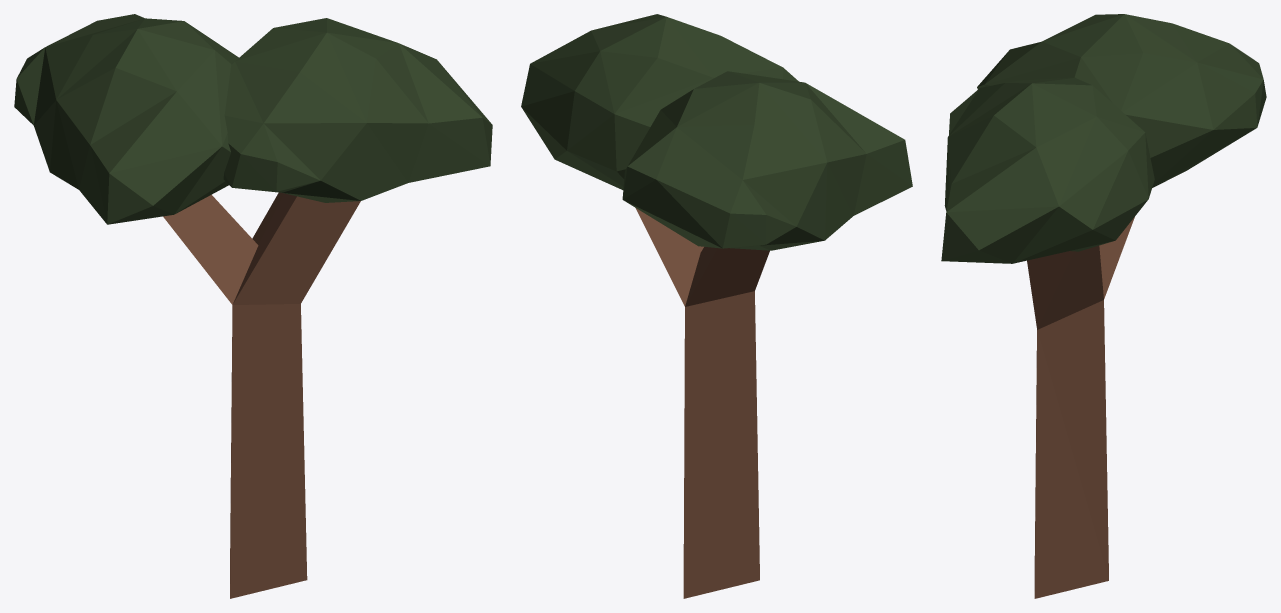
Rendered from CityPlant2.fbx.
The picture shows the model from 3 angles, left to right: view 1: azimuth 30°, elevation 25°; view 2: azimuth 150°, elevation 25°; view 3: azimuth 270°, elevation 25°; orthographic projection. The views are drawn at different scales.
Parts seen in each view (by area): view 1: CityPlant2; view 2: CityPlant2; view 3: CityPlant2.
Part boxes in pixels (<box>): CityPlant2: <box>14,14,492,598</box>; CityPlant2: <box>521,14,912,598</box>; CityPlant2: <box>941,14,1266,598</box>.
Bounding box in the file's own units: 47.53 × 66.77 × 37.34.
